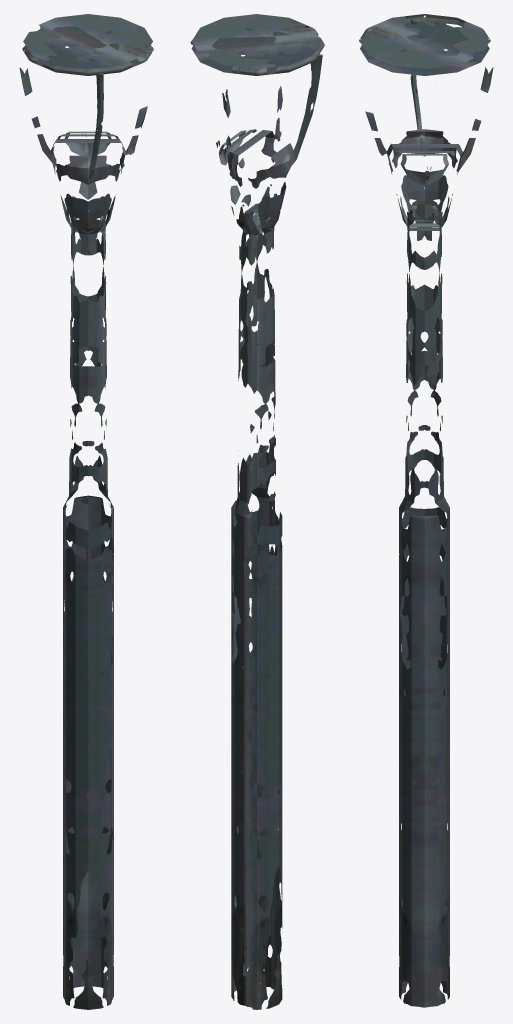
File: farolLuz_moderno_otraTextura.fbx
3 renders of one model, left to right at view 1: azimuth 90°, elevation 25°; view 2: azimuth 150°, elevation 25°; view 3: azimuth 270°, elevation 25°, orthographic.
Parts seen in each view (by area): view 1: Farol_Plaza.002; view 2: Farol_Plaza.002; view 3: Farol_Plaza.002.
Boxes of the visible parts, left/top/right/bottom form: Farol_Plaza.002: left=19, top=14, right=153, bottom=1009; Farol_Plaza.002: left=189, top=14, right=324, bottom=1009; Farol_Plaza.002: left=359, top=14, right=493, bottom=1007.
Bounding box in the file's own units: 1.39 × 10.54 × 1.45.
